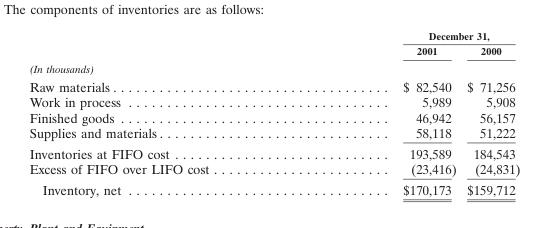table: (28, 29, 519, 197)
table column: (28, 29, 305, 197), (305, 29, 460, 197), (460, 29, 519, 197)
table column header: (28, 29, 519, 59)
table projected row header: (28, 59, 519, 76)
table row: (28, 160, 519, 179), (28, 124, 519, 142), (28, 142, 519, 160), (28, 179, 519, 197), (28, 42, 519, 59), (28, 59, 519, 76), (28, 76, 519, 93), (28, 93, 519, 109), (28, 109, 519, 124), (28, 29, 519, 42)
table spanning cell: (305, 29, 519, 42)
